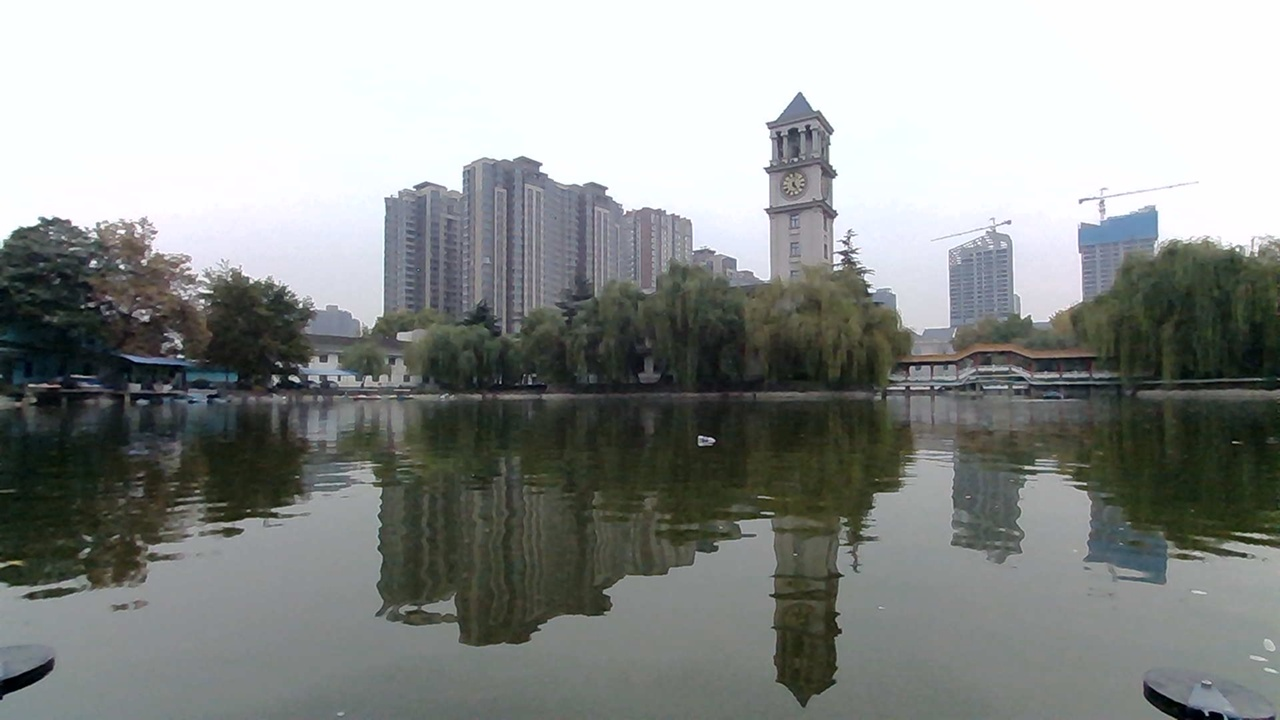bottle: (690, 423, 729, 453)
